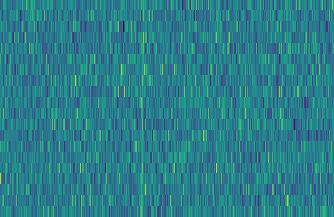signal: (135, 0, 146, 217)
